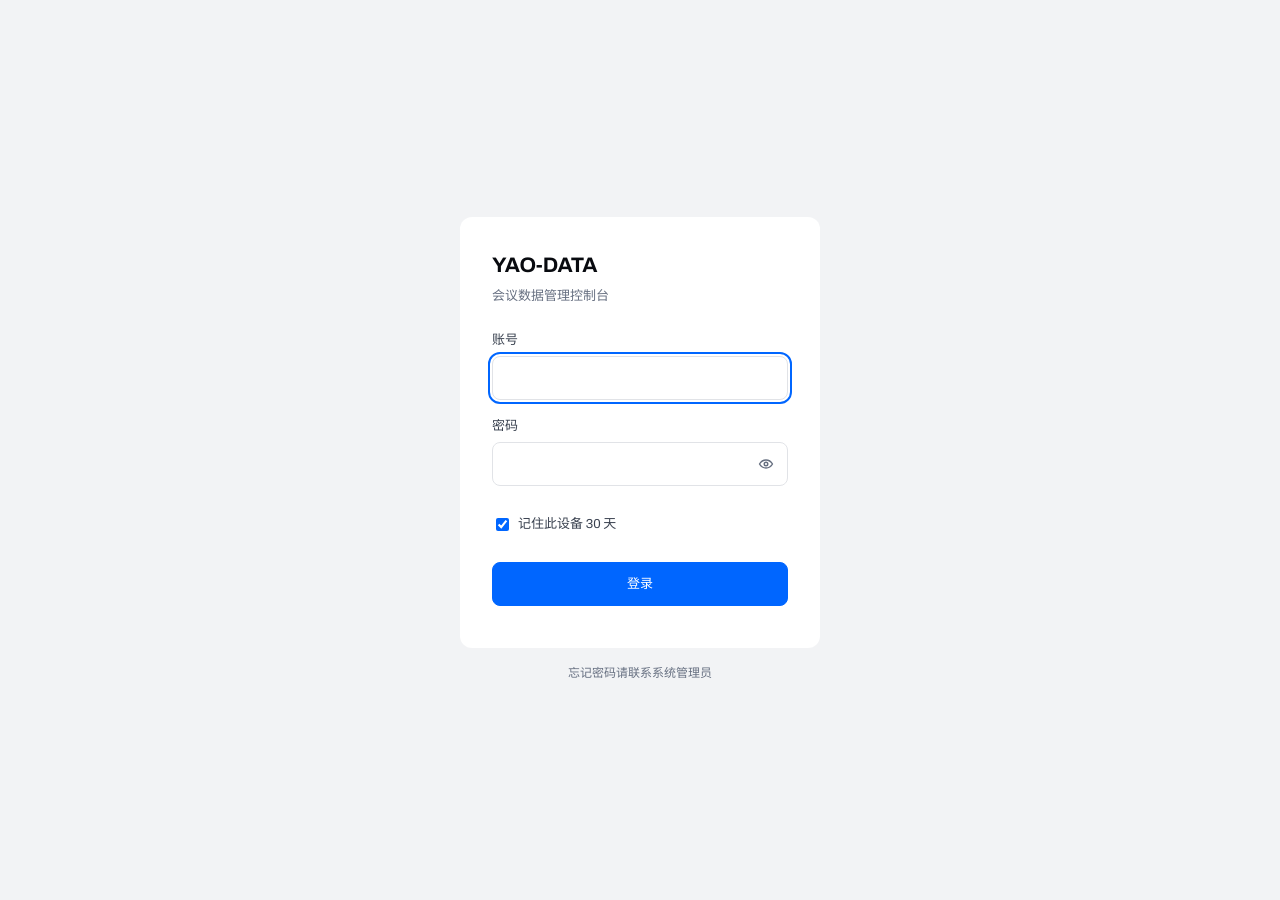
登录页：提交与报错 › 提交正确凭据后，跳转到原本想去的页面
Type "chen.yw" into the field labelled "账号" at [640, 378], box [492,356,788,400]
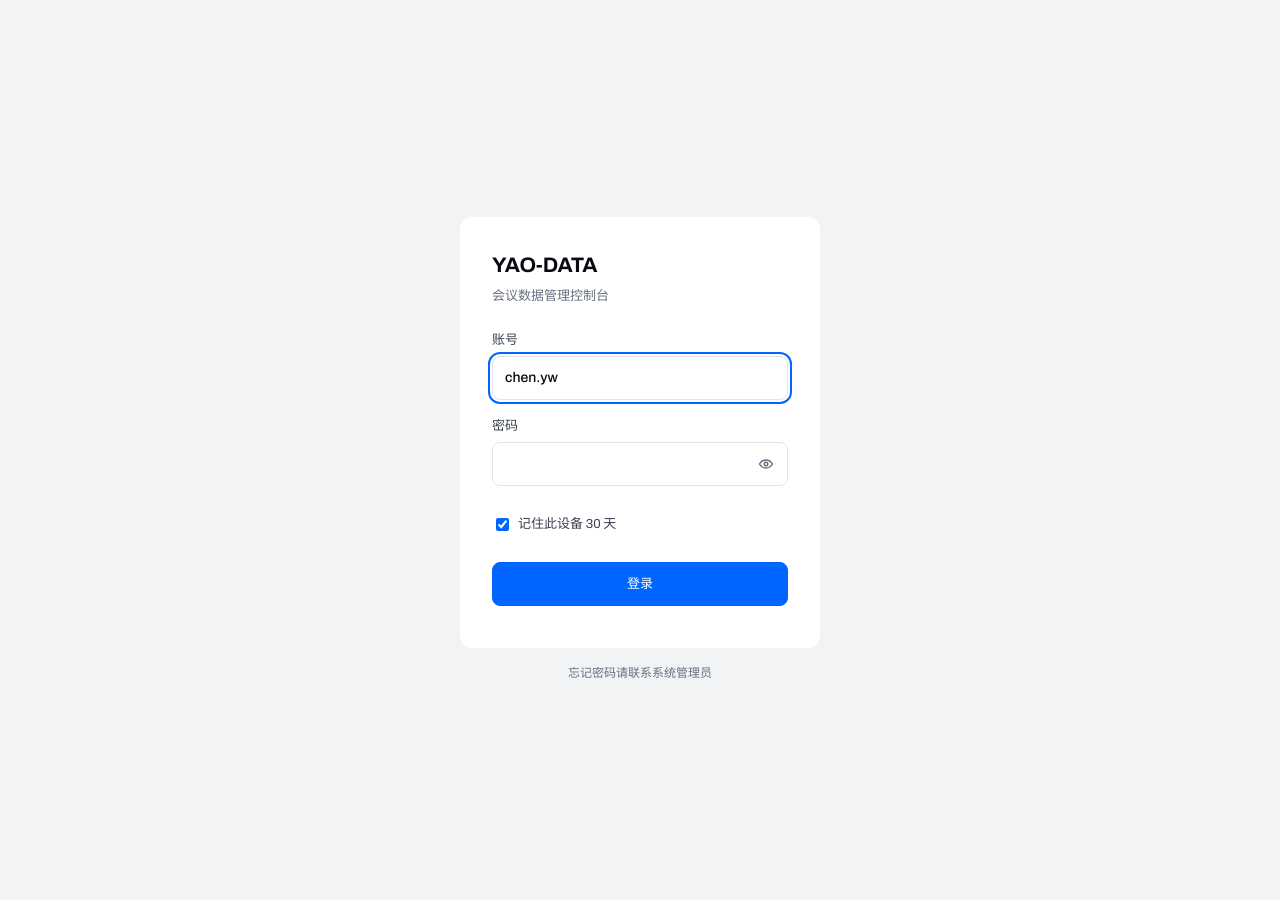
Type "right-pass" into the password field labelled "密码" at [640, 464], box [492,442,788,486]
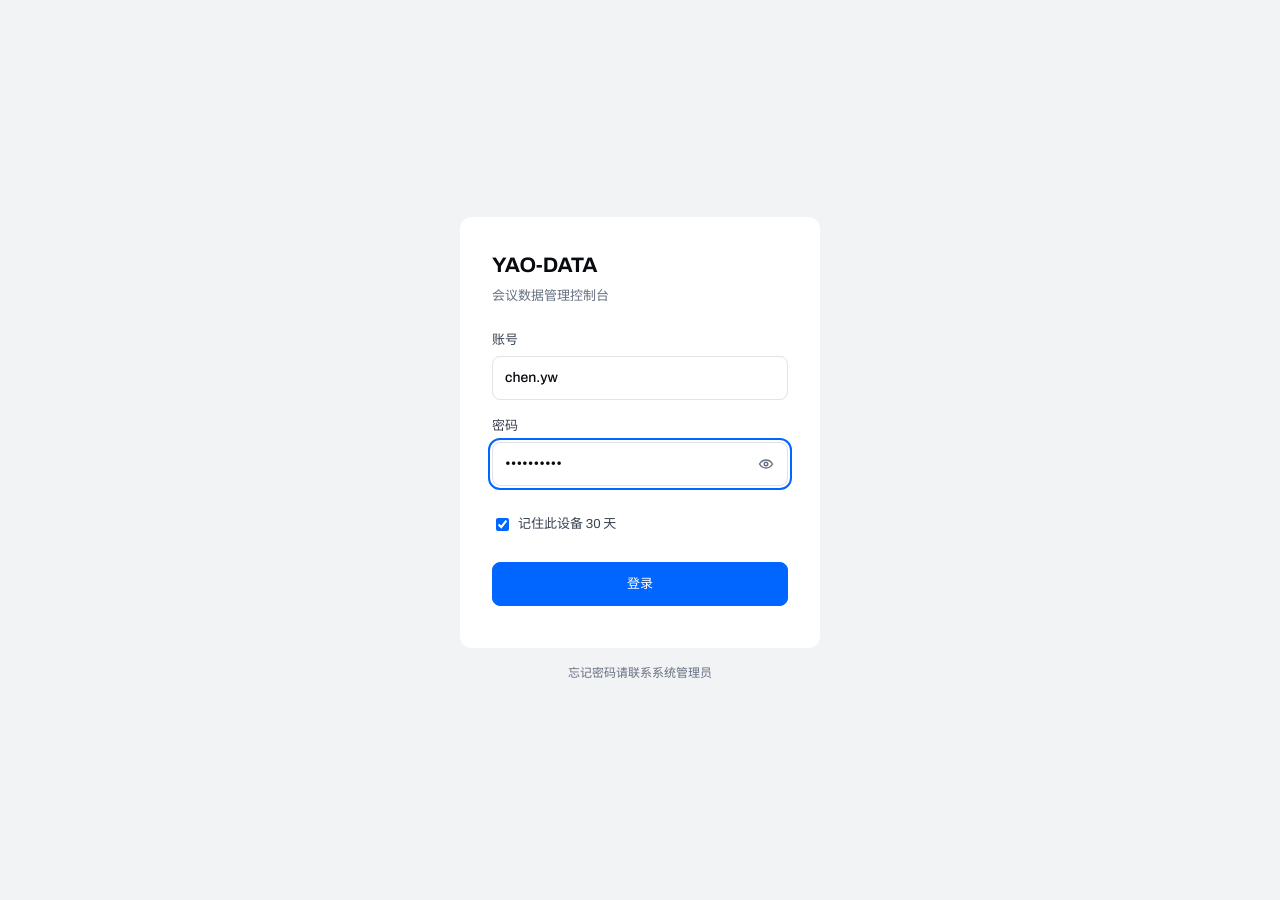
Click the button "登录" at [640, 584], box [492,562,788,606]
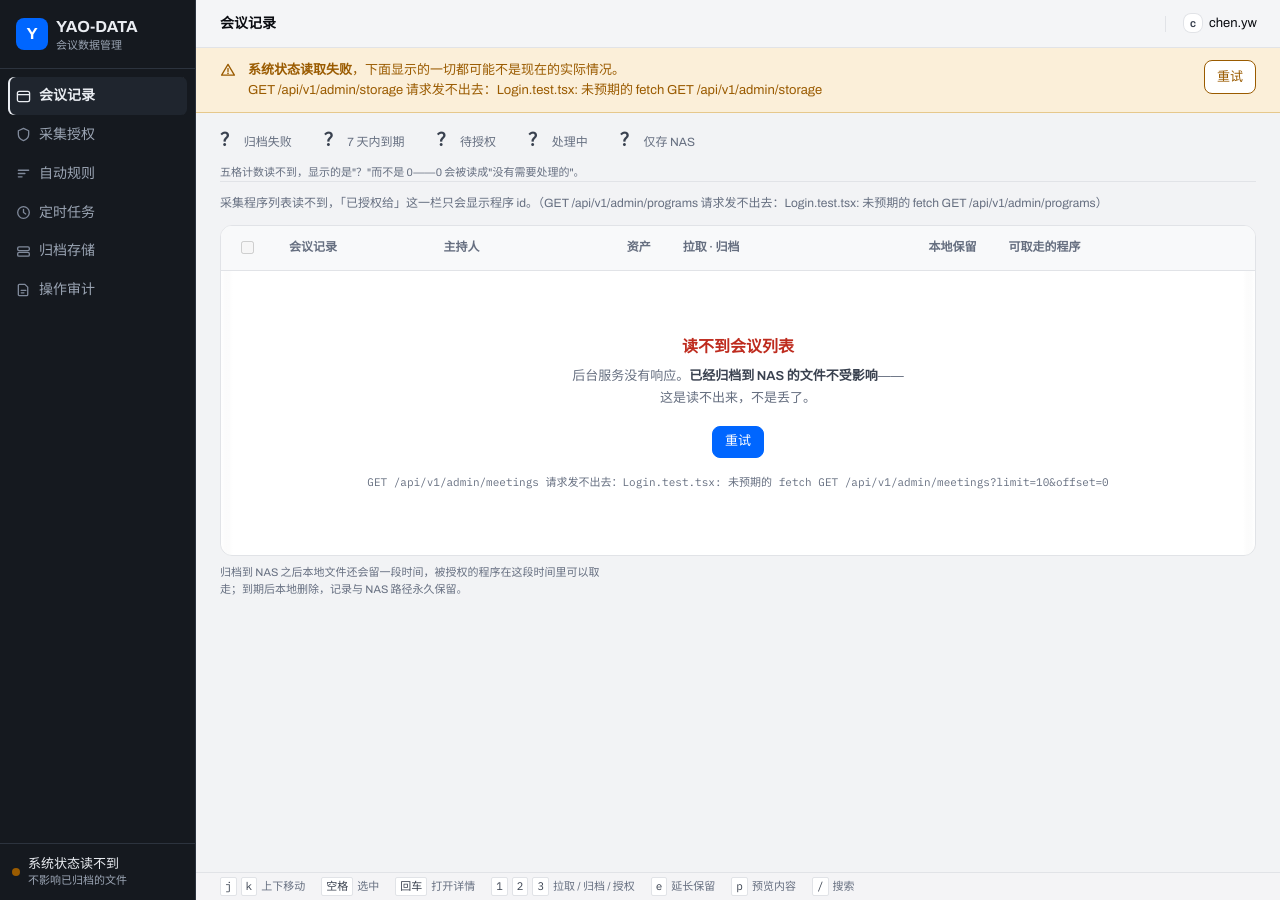
expect the label labelled "账号" is gone: met
